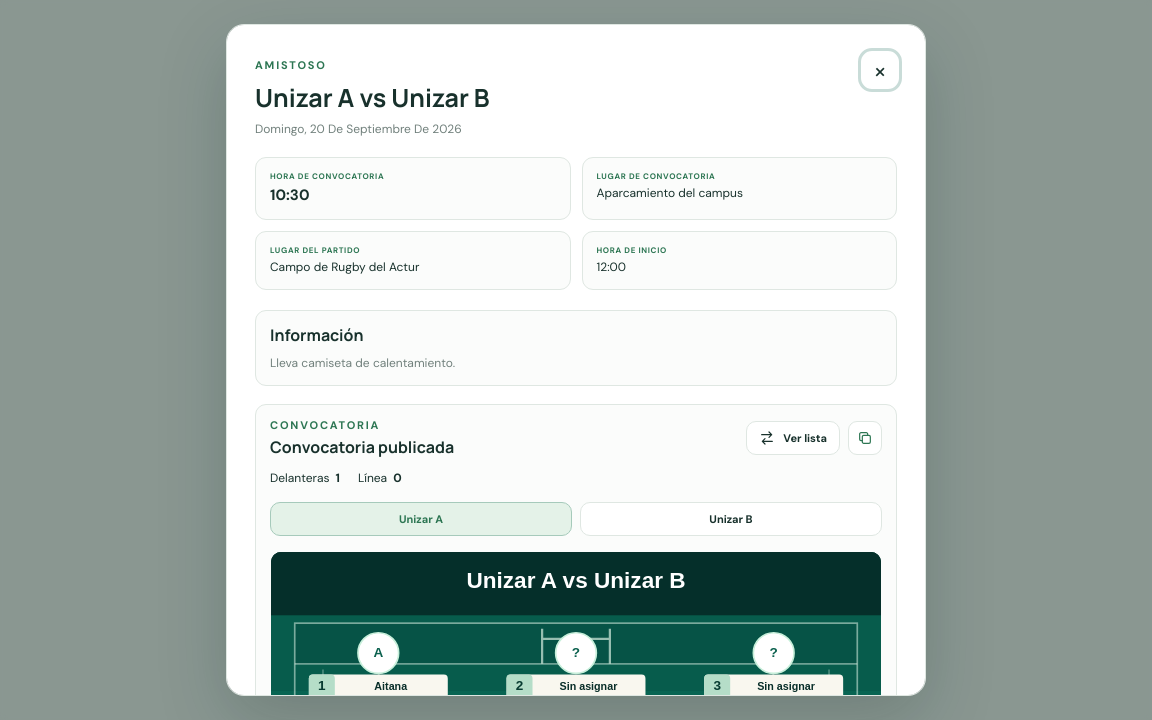
Test: MatchDetailDialog › shows a team selector only for published internal callups and uses the selected lineup for image, list and copy
Expected: the element named "Equipo de la convocatoria" is shown, left=270, top=502, right=882, bottom=536
Expected: the picture named "Imagen de la convocatoria" shows "Aitana", left=374, top=680, right=407, bottom=692
Click the button "Unizar B".
click(731, 519)  # box left=580, top=502, right=882, bottom=536
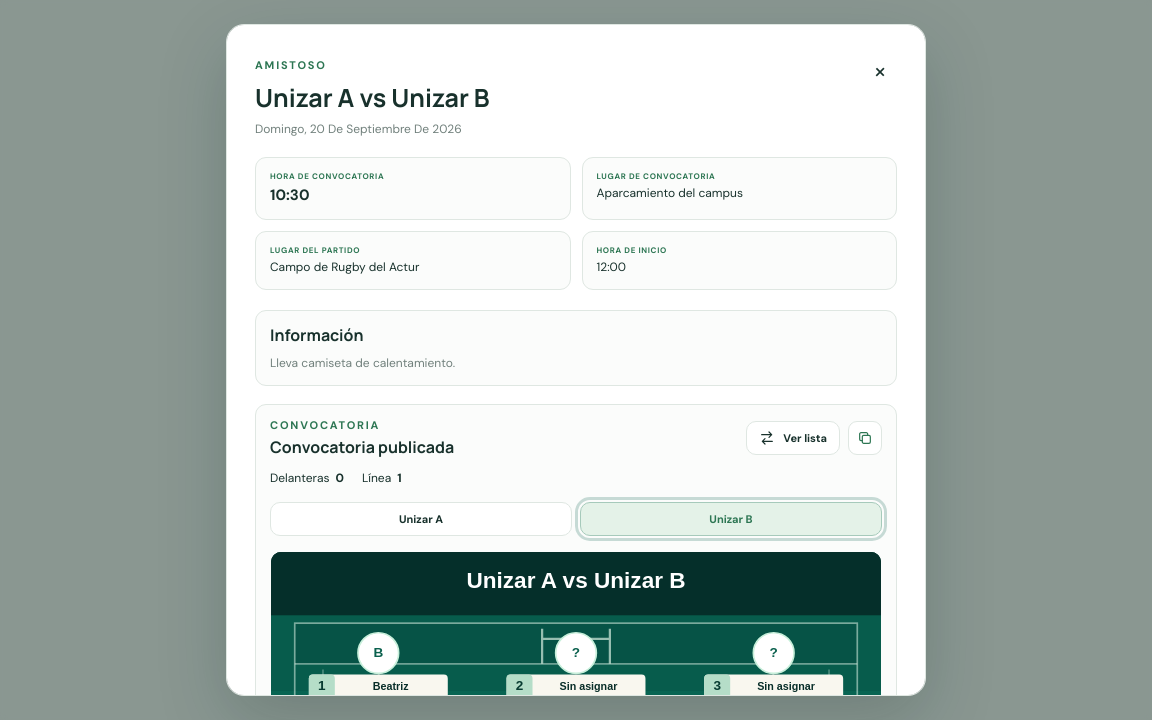
Expected: the picture named "Imagen de la convocatoria" shows "Beatriz", left=373, top=680, right=409, bottom=692
Expected: the element named "Distribución por posición principal" shows "Delanteras 0", left=270, top=470, right=402, bottom=486
Expected: the element named "Distribución por posición principal" shows "Línea 1", left=270, top=470, right=402, bottom=486
Click the button "Ver lista".
click(793, 438)  # box left=746, top=421, right=840, bottom=455
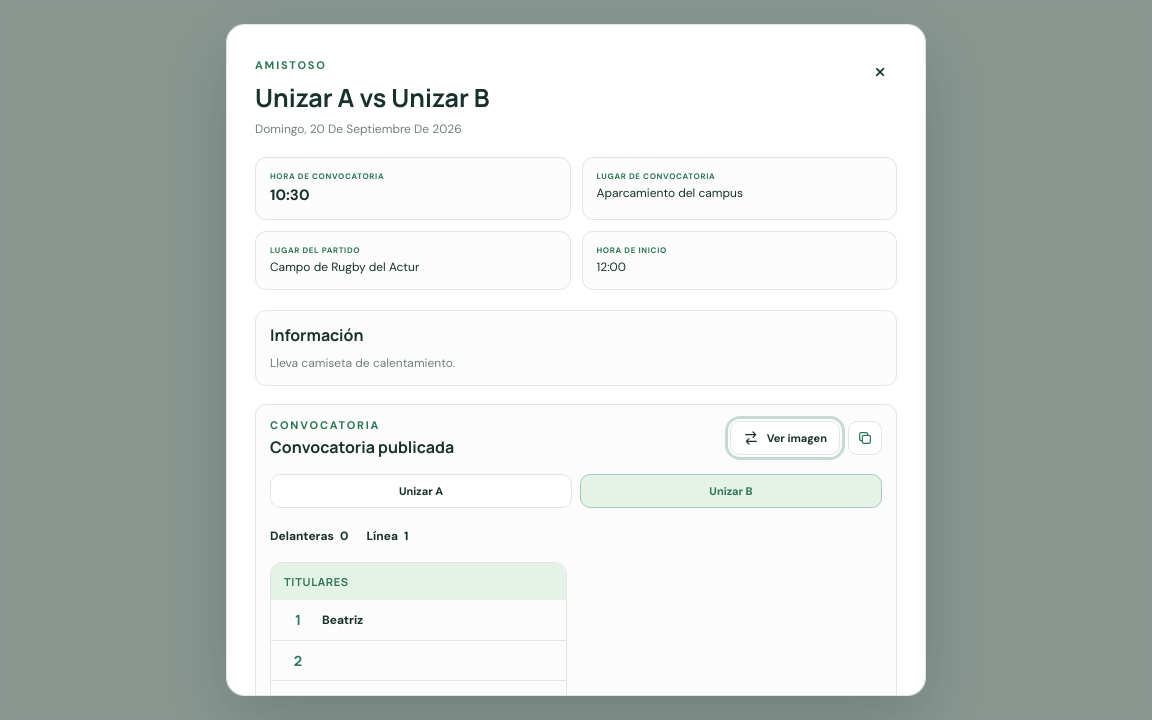
Expected: the element that starts with "Delanteras" shows "Beatriz", left=322, top=612, right=363, bottom=628
Click the button named "Copiar convocatoria".
click(865, 438)  # box left=848, top=421, right=882, bottom=455
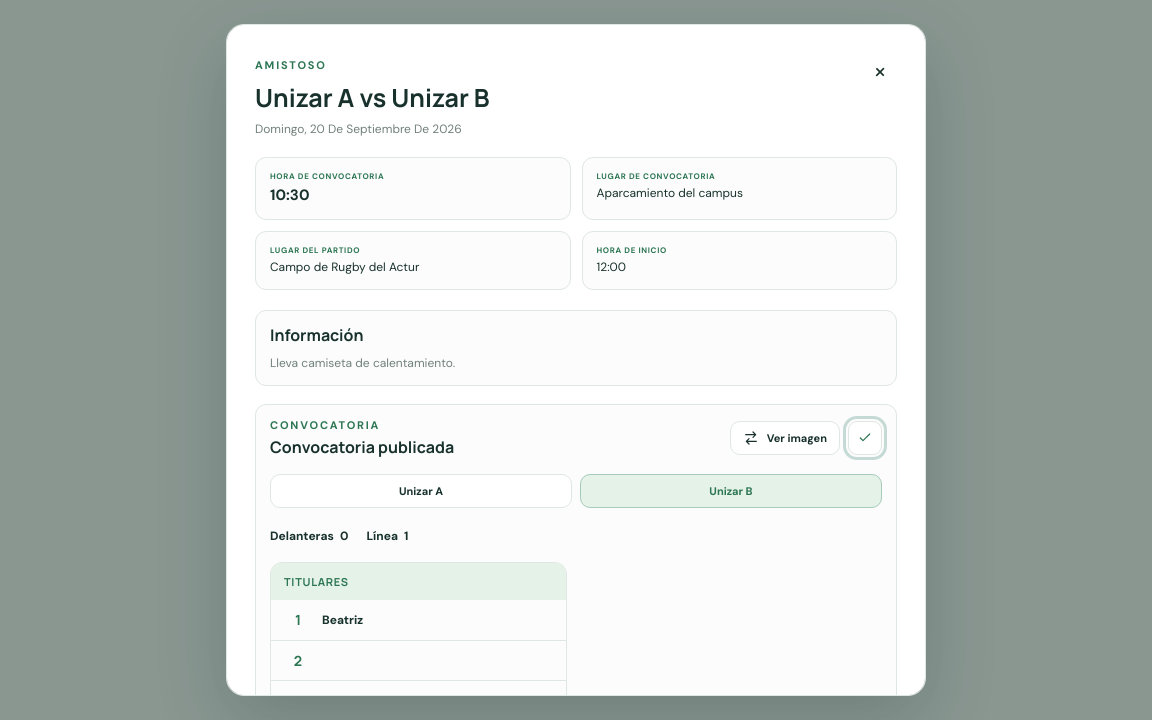
Click the button "Unizar A".
click(421, 491)  # box left=270, top=474, right=572, bottom=508
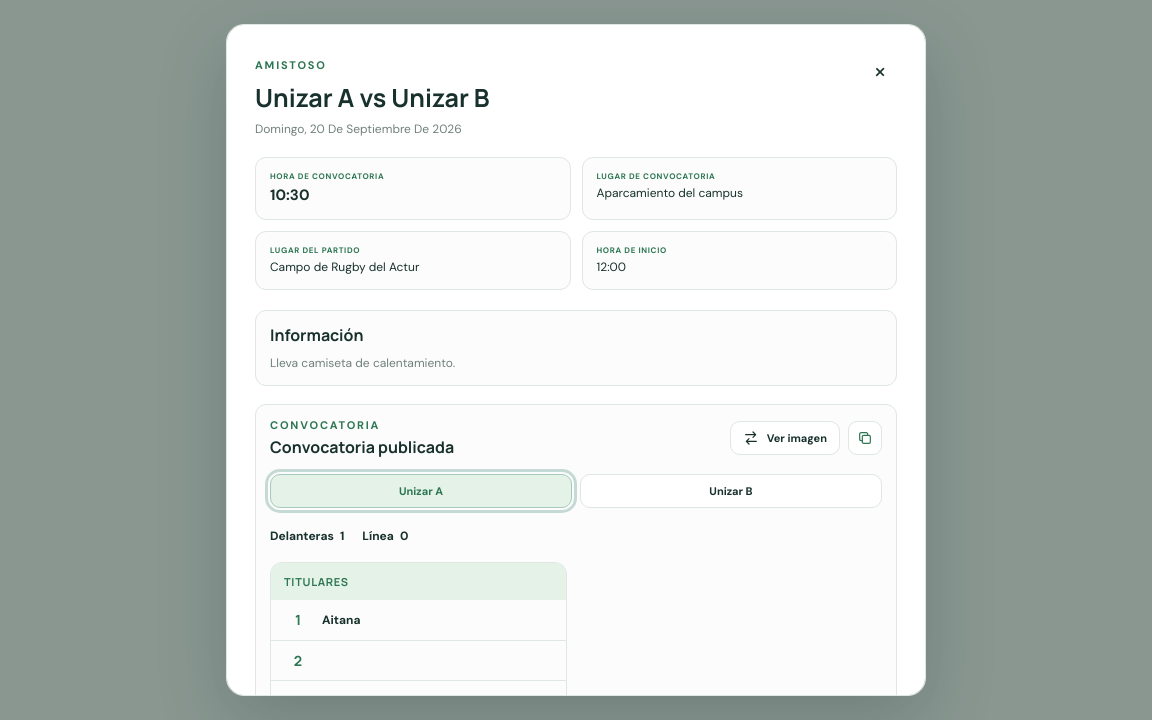
Expected: the element that starts with "Delanteras" shows "Aitana", left=322, top=612, right=360, bottom=628
Click the button "Ver imagen".
click(785, 438)  # box left=730, top=421, right=840, bottom=455
(page scrolled)
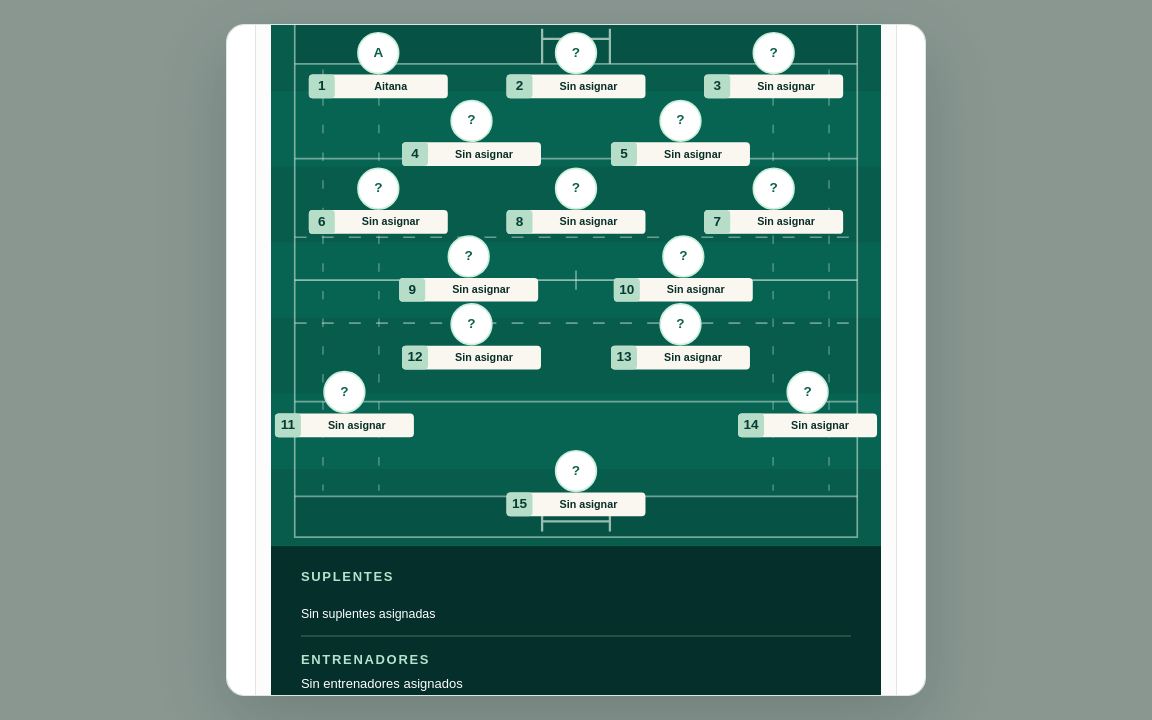
Expected: the picture named "Imagen de la convocatoria" shows "Aitana", left=374, top=80, right=407, bottom=92
